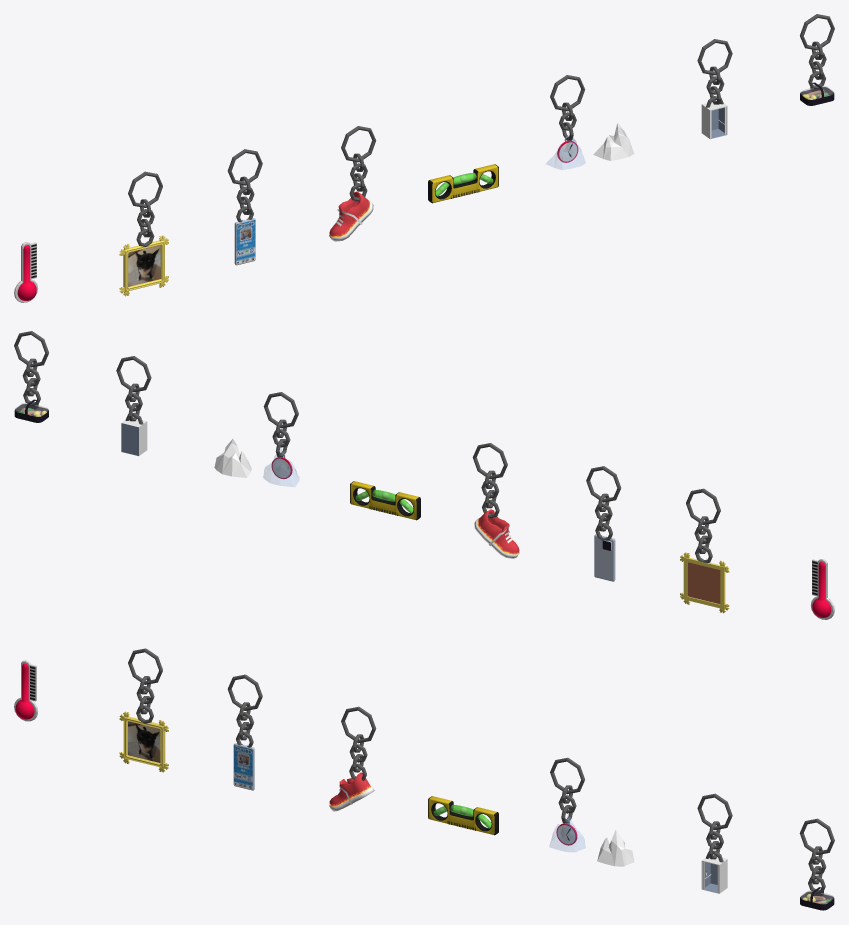
File: Trinkets.glb
3 renders of one model, top to bottom at view 1: azimuth 30°, elevation 25°; view 2: azimuth 150°, elevation 25°; view 3: azimuth 330°, elevation 25°, orthographic.
Parts seen in each view (by area): view 1: GoldenFrame, Level, Shoe, Thermometer, Chain_0.002, Chain_0.005, Chain_0, Puudo, Chain_0.001, Chain_0.004, Cube, Ice.001 (+3 smaller); view 2: GoldenFrame, Level, Shoe, Thermometer, Chain_0.001, Chain_0.002, Chain_0.005, Chain_0, Puudo, Ice.001, Chain_0.004, Cube (+3 smaller); view 3: GoldenFrame, Level, Thermometer, Chain_0.002, Chain_0.005, Puudo, Chain_0, Chain_0.001, Shoe, Chain_0.004, Cube, Ice.001 (+3 smaller).
Boxes of the visible parts, x1,y1,x2,y2 form: GoldenFrame: [119, 235, 168, 296]; Level: [428, 164, 498, 203]; Shoe: [329, 191, 373, 241]; Thermometer: [14, 242, 38, 302]; Chain_0.002: [128, 171, 162, 246]; Chain_0.005: [800, 14, 834, 89]; Chain_0: [341, 126, 376, 201]; Puudo: [234, 218, 255, 265]; Chain_0.001: [227, 149, 262, 222]; Chain_0.004: [697, 39, 732, 107]; Cube: [701, 100, 727, 139]; Ice.001: [593, 123, 634, 160]; GoldenFrame: [680, 552, 729, 613]; Level: [350, 481, 420, 520]; Shoe: [474, 509, 519, 558]; Thermometer: [810, 559, 834, 619]; Chain_0.001: [586, 466, 621, 540]; Chain_0.002: [686, 488, 720, 562]; Chain_0.005: [14, 331, 48, 406]; Chain_0: [472, 443, 507, 518]; Puudo: [594, 534, 615, 581]; Ice.001: [214, 439, 251, 477]; Chain_0.004: [116, 356, 151, 424]; Cube: [121, 419, 147, 456]; GoldenFrame: [119, 711, 168, 772]; Level: [428, 796, 498, 835]; Thermometer: [14, 660, 38, 721]; Chain_0.002: [128, 648, 162, 723]; Chain_0.005: [799, 818, 834, 893]; Puudo: [233, 743, 254, 790]; Chain_0: [341, 706, 376, 780]; Chain_0.001: [227, 674, 262, 747]; Shoe: [329, 772, 374, 811]; Chain_0.004: [697, 793, 732, 862]; Cube: [701, 857, 727, 893]; Ice.001: [597, 829, 634, 866].
Size of the model in its own units: 16.34 by 2.28 by 0.4747.
25 materials, 5 textured.
